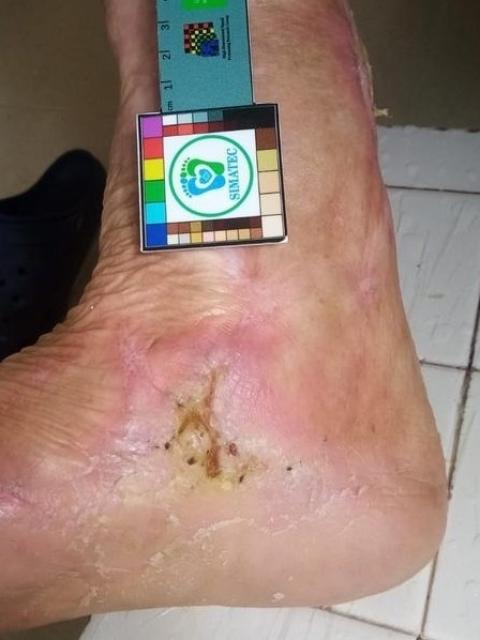wound: (166, 359, 267, 488)
